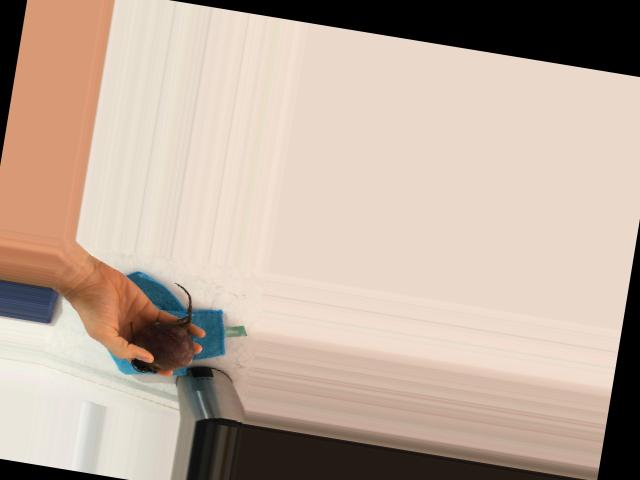beet: (124, 276, 205, 379)
